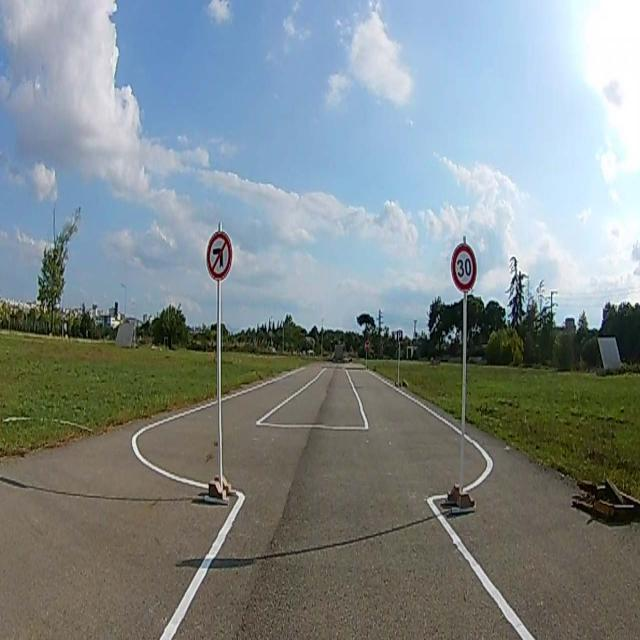30: (451, 243, 477, 290)
soladonulmez: (206, 233, 232, 276)
